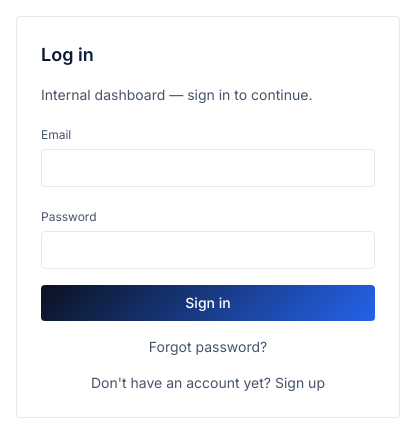
Test case: Login form › disables submit and shows pending label while signing in
Type "a@b.com" into the field labelled "Email" at (208, 168), box [41,149,375,187]
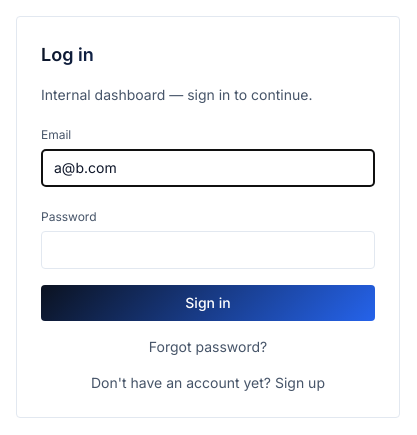
Type "secret12" into the password field labelled "Password" at (208, 250), box [41,231,375,269]
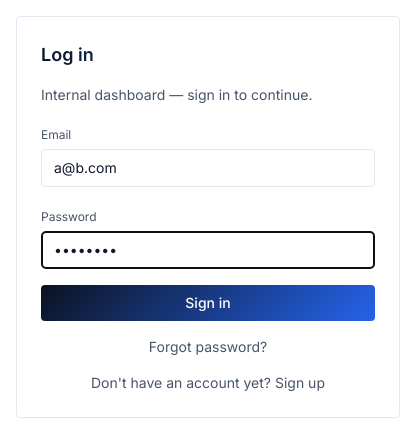
Click the button "Sign in" at (208, 303), box [41,285,375,321]
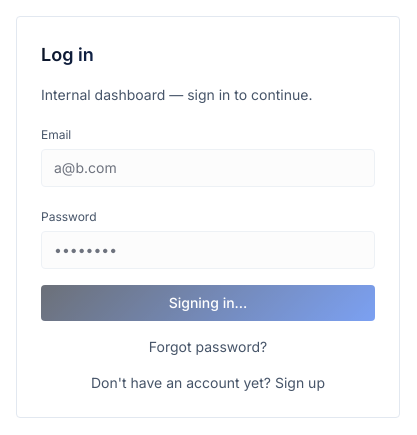
Check: the button "Signing in…" is disabled, box [41,285,375,321]
Check: the field labelled "Email" is disabled, box [41,149,375,187]
